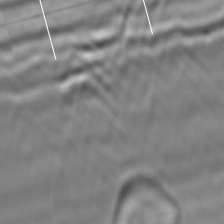Utility: (112, 167, 180, 224)
